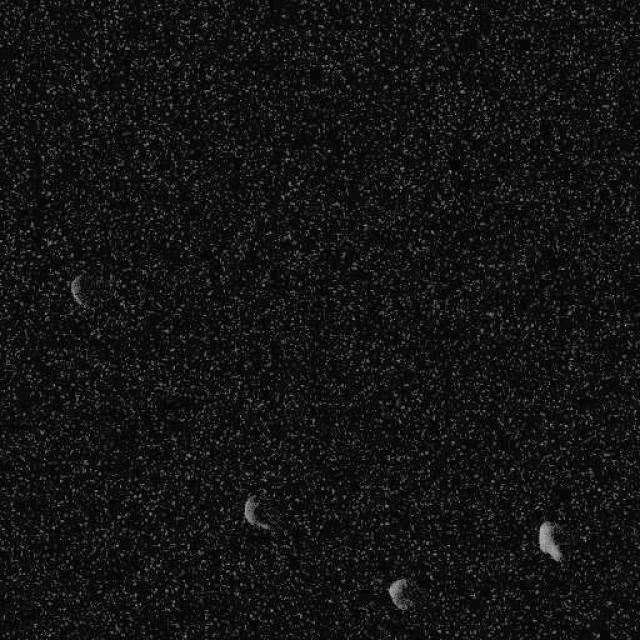D2: (241, 492, 271, 532), (536, 518, 562, 562), (386, 576, 412, 612), (69, 272, 86, 308)
